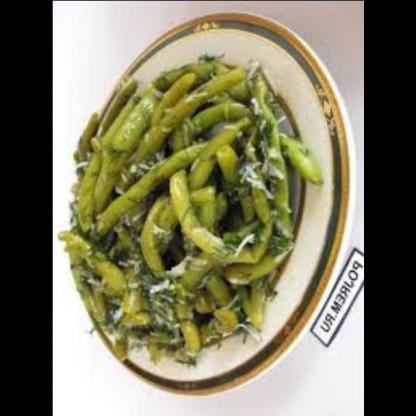fasol: (57, 44, 319, 376)
